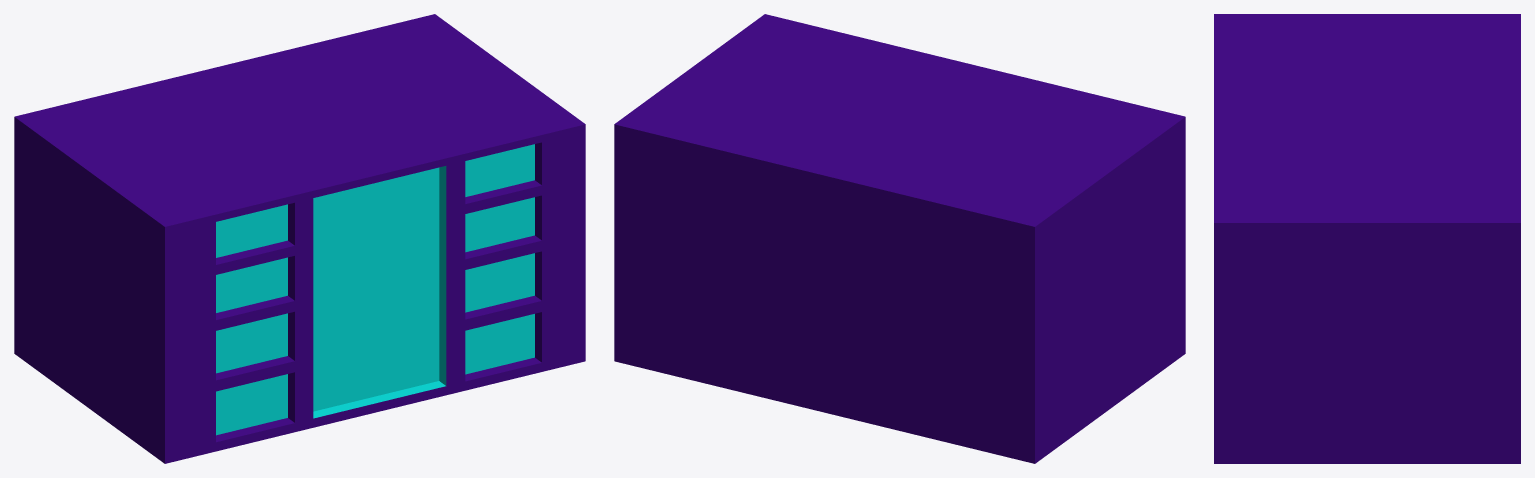
The picture shows the model from 3 angles, left to right: view 1: azimuth 30°, elevation 25°; view 2: azimuth 150°, elevation 25°; view 3: azimuth 270°, elevation 25°; orthographic projection.
Parts seen in each view (by area): view 1: B_6; view 2: B_6; view 3: B_6.
Boxes of the visible parts, x1=… form: B_6: x1=14, y1=14, x2=585, y2=463; B_6: x1=614, y1=14, x2=1185, y2=463; B_6: x1=1214, y1=14, x2=1520, y2=463.
Size of the model in its own units: 484 by 260 by 300.
